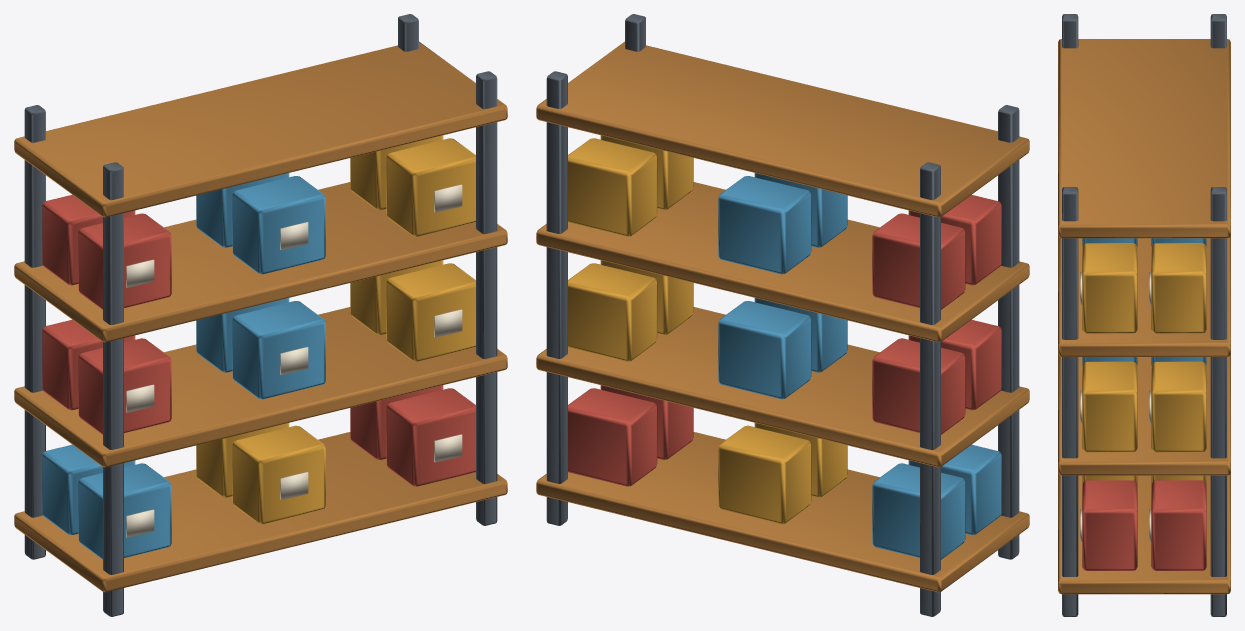
Rendered from store-shelf.glb.
The picture shows the model from 3 angles, left to right: view 1: azimuth 30°, elevation 25°; view 2: azimuth 150°, elevation 25°; view 3: azimuth 270°, elevation 25°; orthographic projection. The views are drawn at different scales.
Visible parts, largest first — view 1: interior_0_wood.001, interior_0_accent, interior_0_blue, interior_0_red, interior_0_metal.001, interior_0_ivory; view 2: interior_0_wood.001, interior_0_accent, interior_0_blue, interior_0_red, interior_0_metal.001; view 3: interior_0_wood.001, interior_0_accent, interior_0_metal.001, interior_0_red, interior_0_blue, interior_0_ivory.
Part boxes in pixels (x1=…): interior_0_wood.001: x1=14, y1=41, x2=507, y2=592; interior_0_accent: x1=196, y1=135, x2=475, y2=524; interior_0_blue: x1=42, y1=173, x2=325, y2=559; interior_0_red: x1=42, y1=194, x2=475, y2=486; interior_0_metal.001: x1=24, y1=14, x2=497, y2=616; interior_0_ivory: x1=126, y1=184, x2=462, y2=537; interior_0_wood.001: x1=536, y1=41, x2=1029, y2=592; interior_0_accent: x1=568, y1=135, x2=847, y2=524; interior_0_blue: x1=718, y1=173, x2=1001, y2=559; interior_0_red: x1=568, y1=194, x2=1001, y2=486; interior_0_metal.001: x1=546, y1=14, x2=1019, y2=616; interior_0_wood.001: x1=1058, y1=39, x2=1230, y2=594; interior_0_accent: x1=1082, y1=243, x2=1206, y2=483; interior_0_metal.001: x1=1062, y1=14, x2=1226, y2=616; interior_0_red: x1=1082, y1=480, x2=1206, y2=570; interior_0_blue: x1=1082, y1=238, x2=1206, y2=365; interior_0_ivory: x1=1080, y1=272, x2=1151, y2=541.
Bounding box in the file's own units: 1.8 × 1.9 × 0.7.
